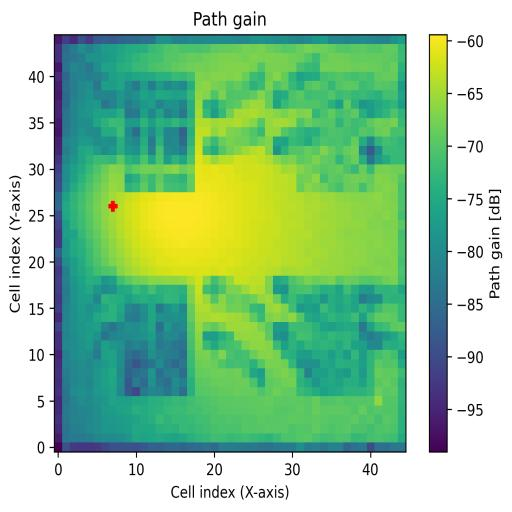Concrete: (298, 74, 376, 192)
Glass: (125, 72, 195, 193)
Metal: (289, 285, 374, 397)
Wood: (116, 286, 188, 396)
